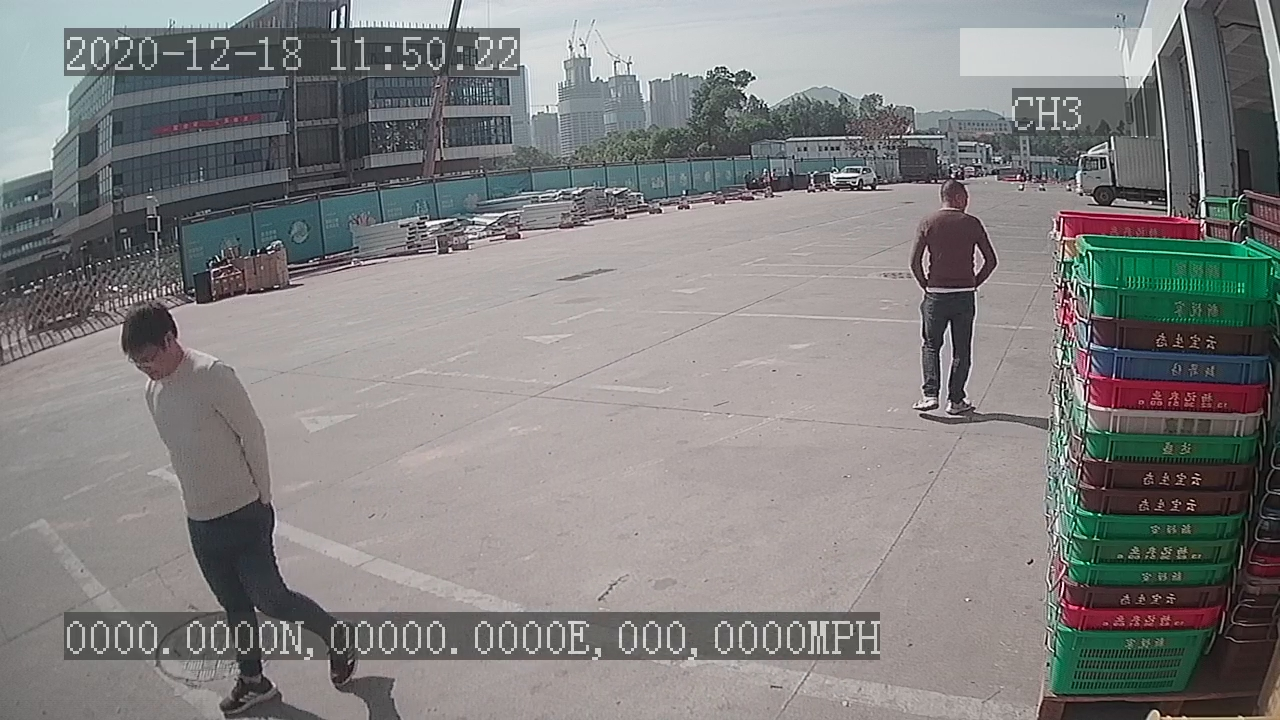person: (906, 176, 1004, 422)
